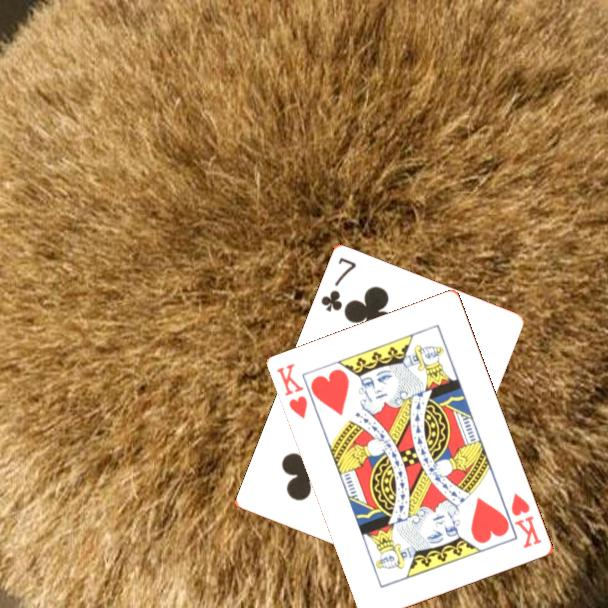c07: (317, 254, 359, 315)
h13: (273, 360, 311, 422), (508, 490, 545, 551)
